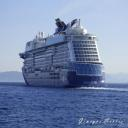cruises: (20, 18, 109, 91)
